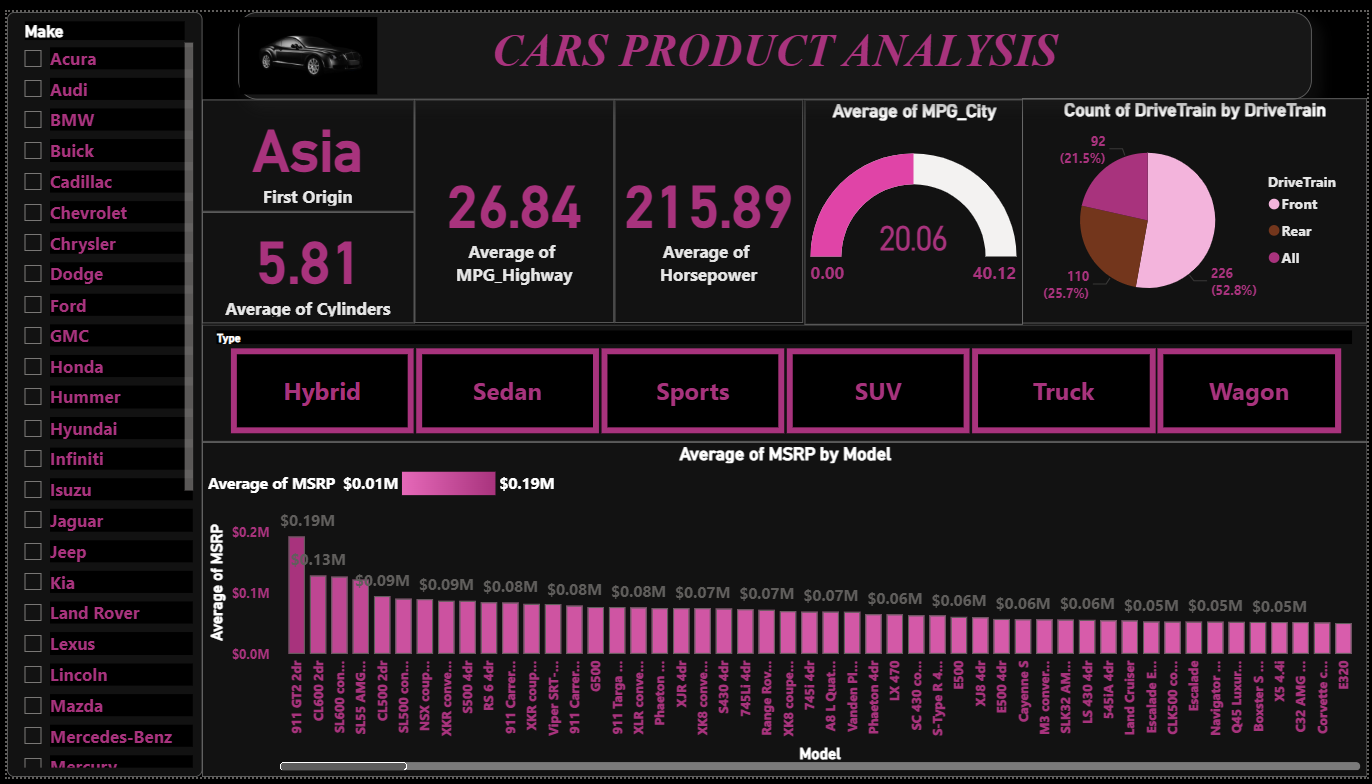

The page's visual inventory and layout, read from the dashboard file:
{"tool":"powerbi","page":{"name":"Page 1","canvas":[1280,720],"ordinal":0},"visuals":[{"type":"columnChart","fields":{"Y":["Avg(CARS.MSRP)"],"Category":["CARS.Model"]},"box":[183.7,404.7,1096.5,315.1],"z":0},{"type":"slicer","fields":{"Values":["CARS.Type"]},"box":[183.7,294.2,1096.5,110.5],"z":1000},{"type":"slicer","fields":{"Values":["CARS.Make"]},"box":[0,0,183.8,720],"z":2000},{"type":"card","fields":{"Values":["Avg(CARS.Cylinders)"]},"box":[183.7,188.4,200,104.7],"z":3000},{"type":"card","fields":{"Values":["Avg(CARS.Horsepower)"]},"box":[572.1,82.6,177.9,210.5],"z":4000},{"type":"card","fields":{"Values":["Avg(CARS.MPG_Highway)"]},"box":[383.7,82.6,188.4,210.5],"z":5000},{"type":"gauge","fields":{"Y":["Avg(CARS.MPG_City)"]},"box":[750,82.6,205.8,211.6],"z":6000},{"type":"pieChart","fields":{"Category":["CARS.DriveTrain"],"Y":["CountNonNull(CARS.DriveTrain)"]},"box":[955.8,81.4,324.4,211.6],"z":7000},{"type":"card","fields":{"Values":["Min(CARS.Origin)"]},"box":[183.7,82.6,200,105.8],"z":8000},{"type":"textbox","box":[217.4,0,1010.5,82.6],"z":8001},{"type":"image","box":[196.5,0,174.1,82.4],"z":8002}]}

Visuals, with their boxes in screenshot pixels (x1, y1, x2, y2), scaled from the page's 1280x720 canvas onto the 1372x784 screenshot:
columnChart - Avg(CARS.MSRP) x CARS.Model: 197,441,1371,783
slicer - CARS.Type: 197,320,1371,441
slicer - CARS.Make: 0,0,197,783
card - Avg(CARS.Cylinders): 197,205,411,319
card - Avg(CARS.Horsepower): 613,90,804,319
card - Avg(CARS.MPG_Highway): 411,90,613,319
gauge - Avg(CARS.MPG_City): 804,90,1024,320
pieChart - CARS.DriveTrain x CountNonNull(CARS.DriveTrain): 1024,89,1371,319
card - Min(CARS.Origin): 197,90,411,205
textbox: 233,0,1316,90
image: 211,0,397,90
